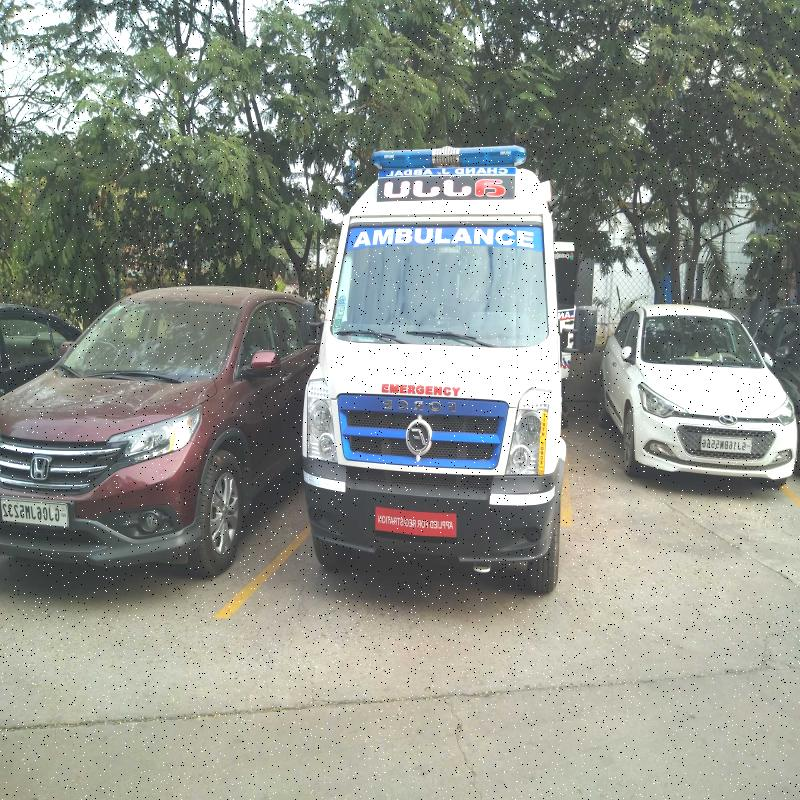ambulance: (313, 171, 553, 574)
